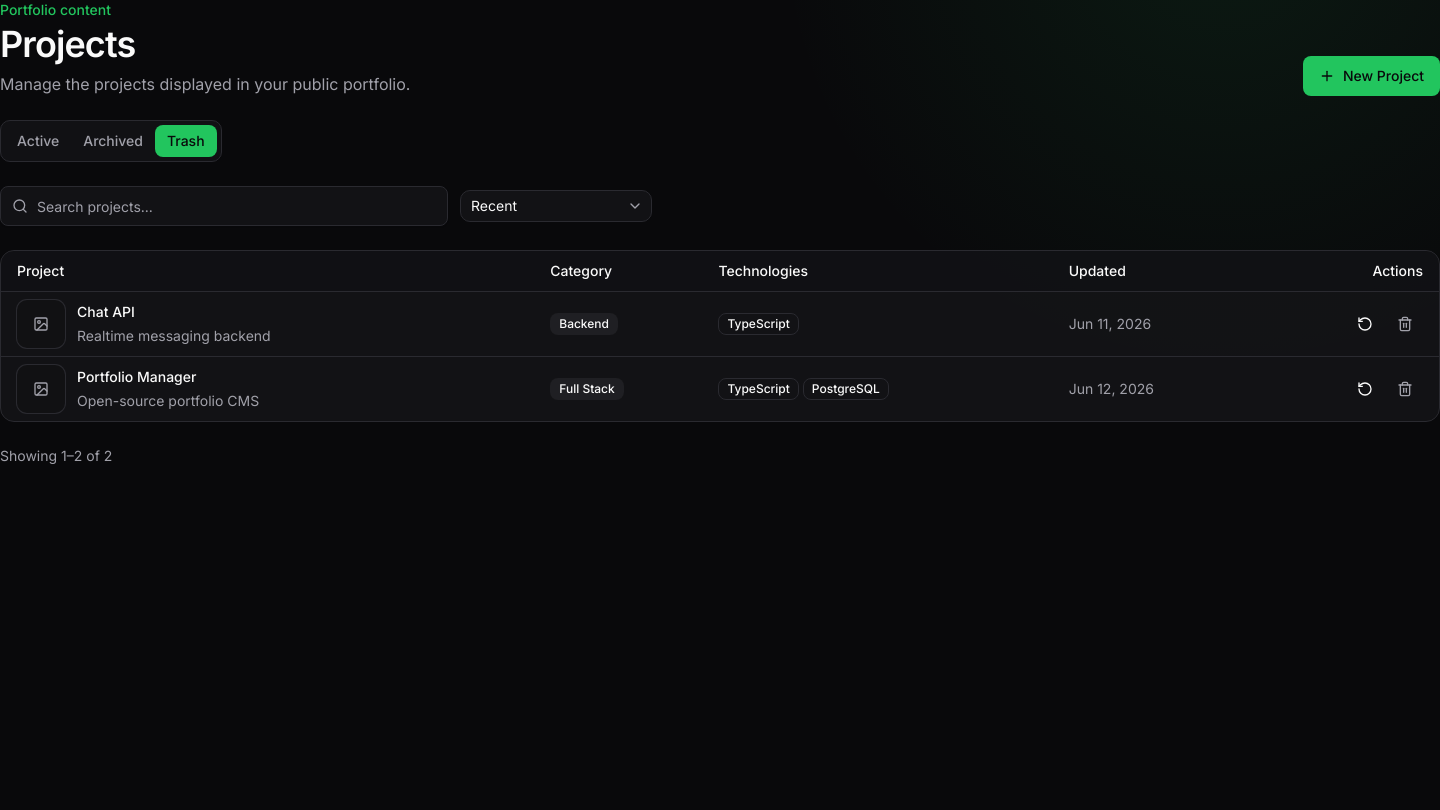
ProjectsView › confirms purge and closes the dialog on success
The width and height of the screenshot is (1440, 810).
Click the button named "Delete Portfolio Manager permanently": click(1405, 388) [1387,370,1423,406]
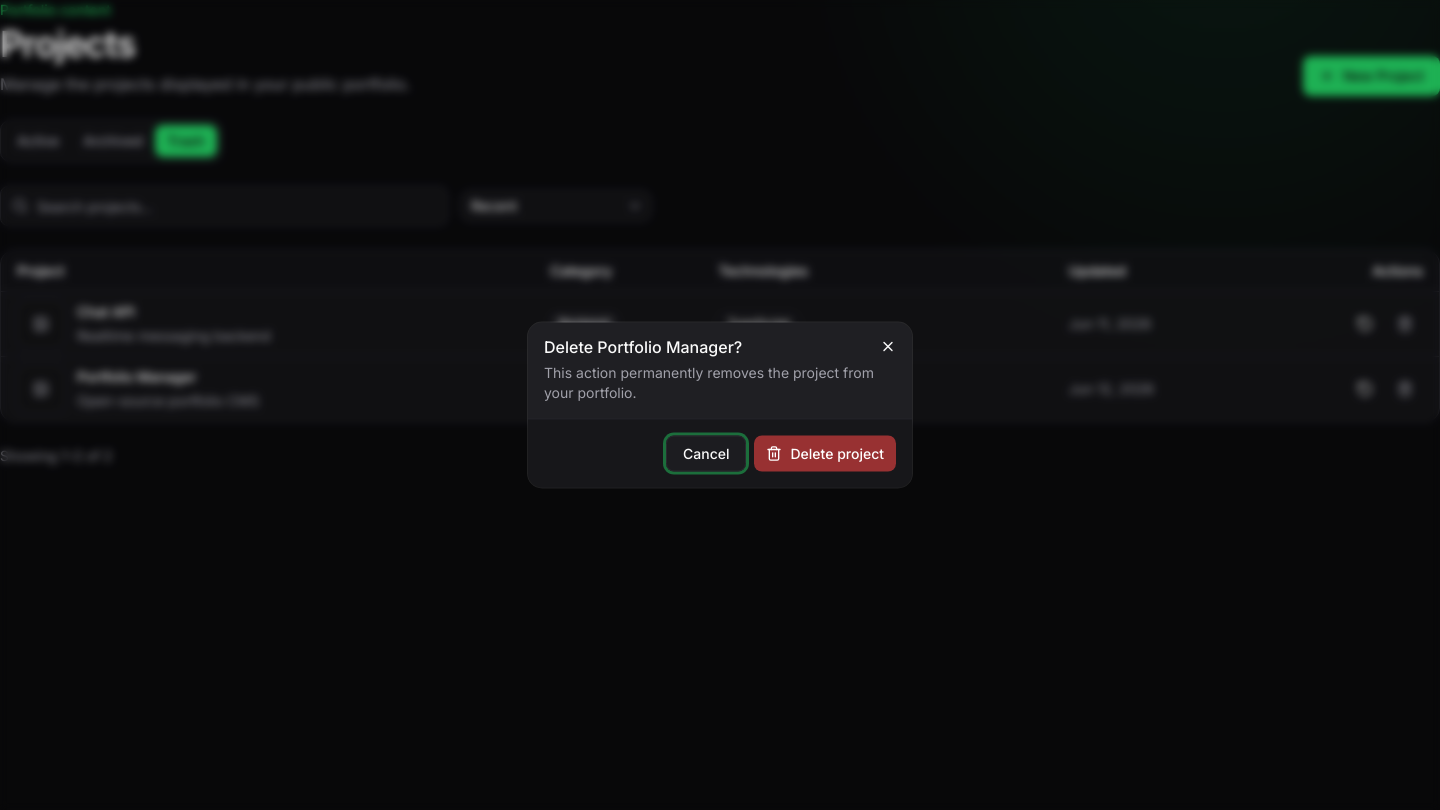
Expected: the heading "Delete Portfolio Manager?" is shown, [544,336,742,356]
Click the button "Delete project": click(825, 454) [754,436,896,472]
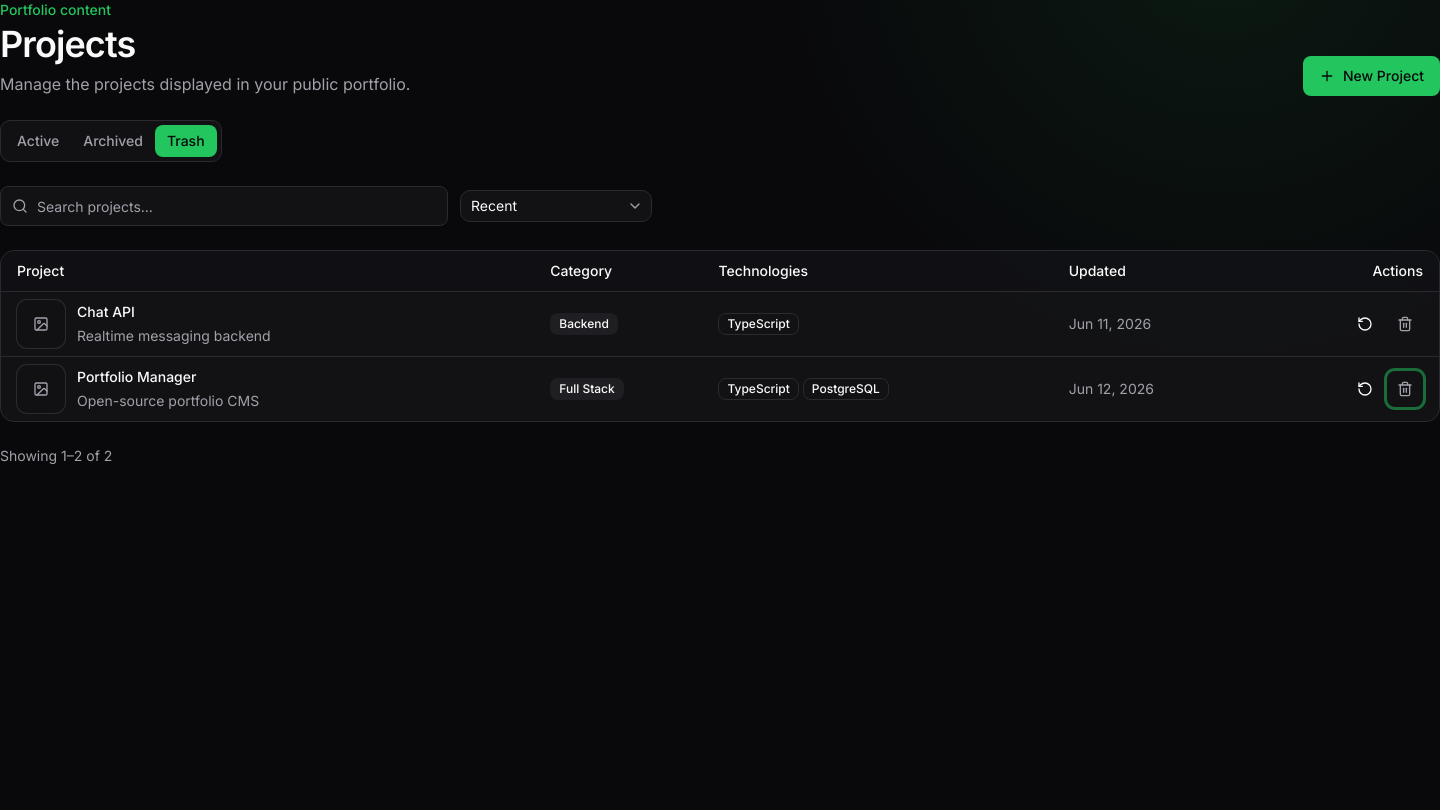
Expected: the heading "Delete Portfolio Manager?" is gone
